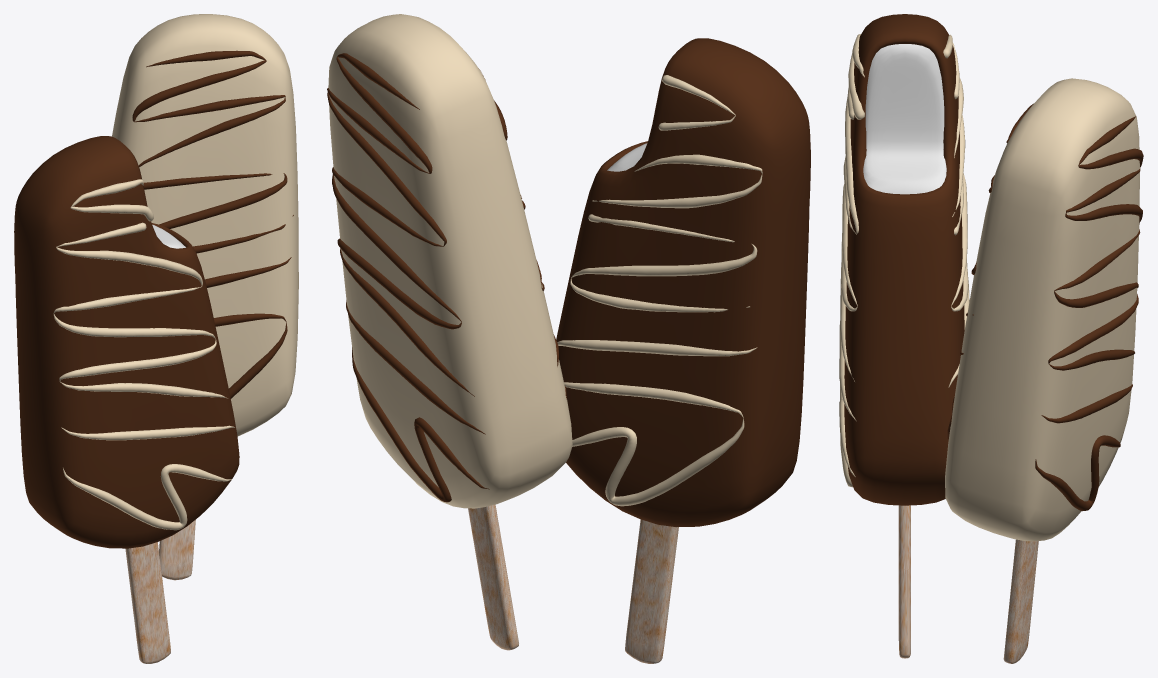
Rendered from popsicles.glb.
3 renders of one model, left to right at view 1: azimuth 30°, elevation 25°; view 2: azimuth 150°, elevation 25°; view 3: azimuth 270°, elevation 25°, orthographic. The views are drawn at different scales.
Parts seen in each view (by area): view 1: popsicle shell.001_3, popsicle shell_0, chocolate drizzle.001_4, chocolate drizzle_1, popsicle stick.001_5, popsicle stick_2; view 2: popsicle shell.001_3, popsicle shell_0, chocolate drizzle.001_4, chocolate drizzle_1, popsicle stick.001_5, popsicle stick_2; view 3: popsicle shell_0, popsicle shell.001_3, popsicle shell.002_6, chocolate drizzle_1, chocolate drizzle.001_4, popsicle stick_2, popsicle stick.001_5.
Boxes of the visible parts, left/top/right/bottom form: popsicle shell.001_3: left=14, top=136, right=239, bottom=548; popsicle shell_0: left=112, top=14, right=298, bottom=436; chocolate drizzle.001_4: left=53, top=179, right=234, bottom=530; chocolate drizzle_1: left=132, top=50, right=293, bottom=398; popsicle stick.001_5: left=125, top=542, right=170, bottom=663; popsicle stick_2: left=159, top=519, right=195, bottom=580; popsicle shell.001_3: left=556, top=38, right=810, bottom=527; popsicle shell_0: left=328, top=14, right=572, bottom=508; chocolate drizzle.001_4: left=557, top=75, right=762, bottom=506; chocolate drizzle_1: left=327, top=53, right=566, bottom=502; popsicle stick.001_5: left=625, top=519, right=678, bottom=663; popsicle stick_2: left=468, top=504, right=518, bottom=650; popsicle shell_0: left=945, top=78, right=1139, bottom=541; popsicle shell.001_3: left=844, top=14, right=964, bottom=505; popsicle shell.002_6: left=863, top=44, right=946, bottom=194; chocolate drizzle_1: left=947, top=103, right=1143, bottom=511; chocolate drizzle.001_4: left=839, top=34, right=969, bottom=487; popsicle stick_2: left=1003, top=539, right=1038, bottom=663; popsicle stick.001_5: left=898, top=505, right=910, bottom=658.
Size of the model in its own units: 1.84 by 2.99 by 1.3.
Materials: 4 (1 with a texture image).
